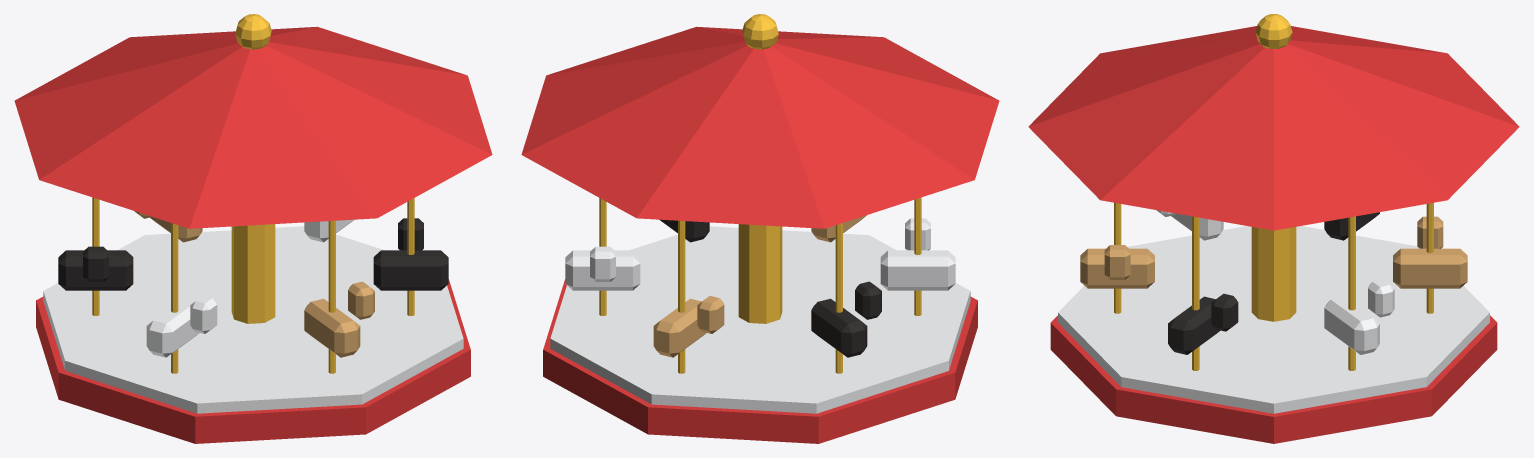
The model's file is Carousel.fbx.
3 views of the same model, side by side, from view 1: azimuth 30°, elevation 25°; view 2: azimuth 150°, elevation 25°; view 3: azimuth 270°, elevation 25° (orthographic).
Parts seen in each view (by area): view 1: Carousel_Ride, Carousel; view 2: Carousel_Ride, Carousel; view 3: Carousel_Ride, Carousel.
Boxes of the visible parts, box(x1,y1,x2,y2) form: Carousel_Ride: box(14, 14, 492, 413); Carousel: box(36, 224, 470, 443); Carousel_Ride: box(521, 14, 999, 413); Carousel: box(543, 224, 977, 443); Carousel_Ride: box(1028, 14, 1519, 413); Carousel: box(1050, 227, 1497, 443).
Bounding box in the file's own units: 13.2 × 9.9 × 13.2.
Materials: 1 (1 with a texture image).
